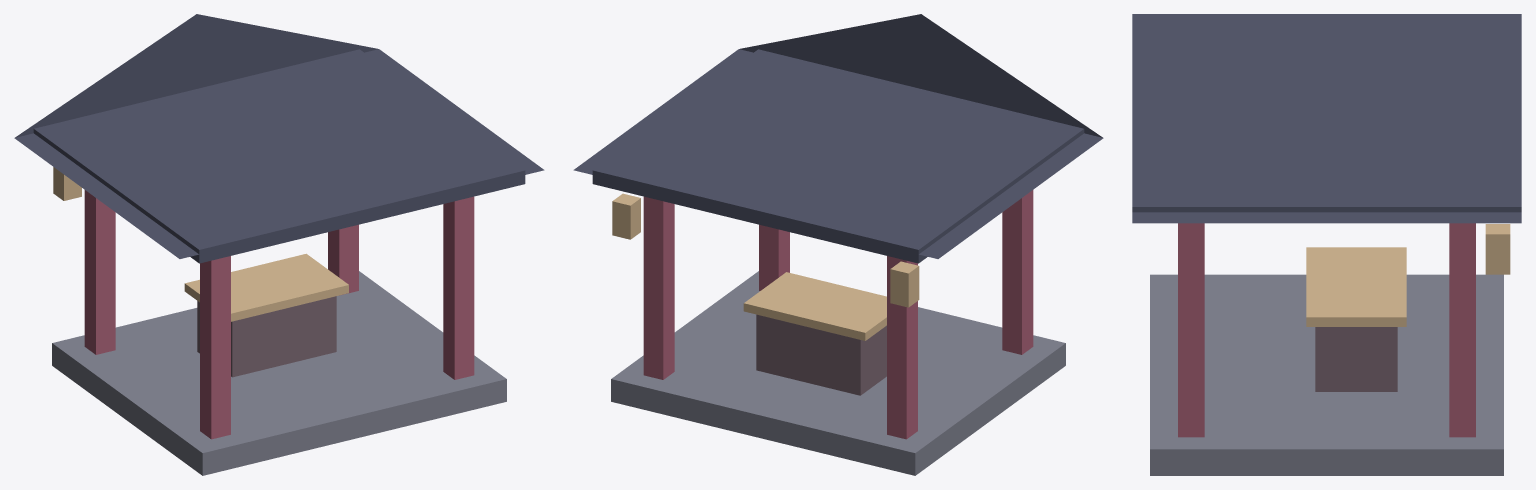
The model's file is dojo_offering_pavilion_lod0.glb.
3 renders of one model, left to right at view 1: azimuth 30°, elevation 25°; view 2: azimuth 150°, elevation 25°; view 3: azimuth 270°, elevation 25°, orthographic. The views are drawn at different scales.
Visible parts, largest first — view 1: dojo_offering_pavilion_005, dojo_offering_pavilion_000, dojo_offering_pavilion_006, dojo_offering_pavilion_007, dojo_offering_pavilion_004, dojo_offering_pavilion_002, dojo_offering_pavilion_008, dojo_offering_pavilion_001, dojo_offering_pavilion_003, dojo_offering_pavilion_009; view 2: dojo_offering_pavilion_005, dojo_offering_pavilion_000, dojo_offering_pavilion_006, dojo_offering_pavilion_007, dojo_offering_pavilion_008, dojo_offering_pavilion_003, dojo_offering_pavilion_002, dojo_offering_pavilion_001, dojo_offering_pavilion_004, dojo_offering_pavilion_009, dojo_offering_pavilion_010; view 3: dojo_offering_pavilion_005, dojo_offering_pavilion_000, dojo_offering_pavilion_008, dojo_offering_pavilion_006, dojo_offering_pavilion_003, dojo_offering_pavilion_004, dojo_offering_pavilion_007, dojo_offering_pavilion_010.
Part boxes in pixels (x1,y1,x2,y2): dojo_offering_pavilion_005: [33, 49, 525, 263]; dojo_offering_pavilion_000: [52, 271, 506, 475]; dojo_offering_pavilion_006: [14, 14, 544, 258]; dojo_offering_pavilion_007: [197, 296, 336, 377]; dojo_offering_pavilion_004: [443, 196, 474, 379]; dojo_offering_pavilion_002: [200, 256, 230, 439]; dojo_offering_pavilion_008: [184, 253, 348, 321]; dojo_offering_pavilion_001: [84, 190, 115, 354]; dojo_offering_pavilion_003: [328, 224, 358, 295]; dojo_offering_pavilion_009: [53, 167, 81, 200]; dojo_offering_pavilion_005: [592, 49, 1084, 263]; dojo_offering_pavilion_000: [611, 271, 1065, 475]; dojo_offering_pavilion_006: [573, 14, 1103, 258]; dojo_offering_pavilion_007: [756, 314, 886, 395]; dojo_offering_pavilion_008: [743, 272, 886, 340]; dojo_offering_pavilion_003: [643, 196, 674, 379]; dojo_offering_pavilion_002: [1002, 190, 1033, 354]; dojo_offering_pavilion_001: [887, 256, 917, 439]; dojo_offering_pavilion_004: [759, 224, 789, 290]; dojo_offering_pavilion_009: [890, 261, 919, 307]; dojo_offering_pavilion_010: [612, 193, 640, 239]; dojo_offering_pavilion_005: [1132, 20, 1521, 212]; dojo_offering_pavilion_000: [1150, 274, 1503, 475]; dojo_offering_pavilion_008: [1306, 247, 1406, 326]; dojo_offering_pavilion_006: [1132, 14, 1521, 223]; dojo_offering_pavilion_003: [1449, 223, 1475, 437]; dojo_offering_pavilion_004: [1178, 223, 1204, 437]; dojo_offering_pavilion_007: [1315, 327, 1397, 391]; dojo_offering_pavilion_010: [1485, 224, 1510, 274].
Bounding box in the file's own units: 8.4 × 6.8 × 6.6.
